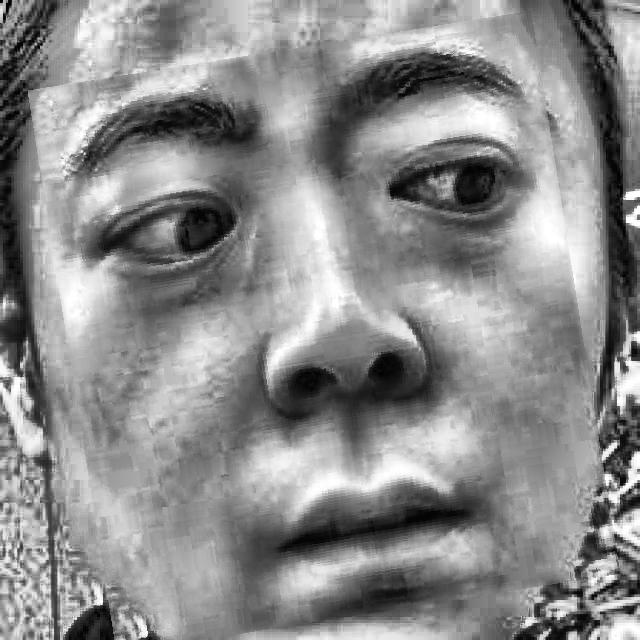fear: (49, 29, 599, 635)
